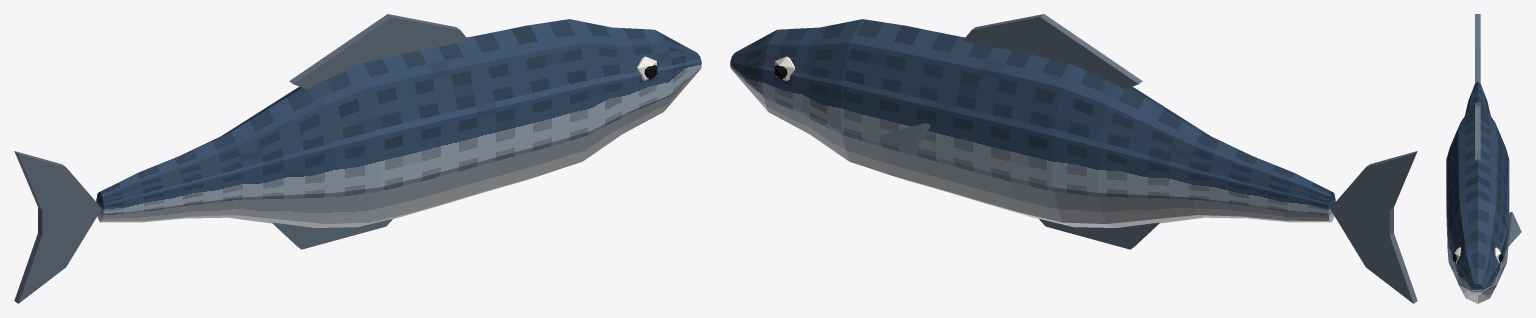
Rendered from tarpon.glb.
3 renders of one model, left to right at view 1: azimuth 30°, elevation 25°; view 2: azimuth 150°, elevation 25°; view 3: azimuth 270°, elevation 25°, orthographic. The views are drawn at different scales.
Visible parts, largest first — view 1: fish_tarpon; view 2: fish_tarpon; view 3: fish_tarpon.
Part boxes in pixels (bbox=[...]): fish_tarpon: bbox=[14, 14, 701, 303]; fish_tarpon: bbox=[730, 14, 1417, 303]; fish_tarpon: bbox=[1446, 14, 1521, 303].
Size of the model in its own units: 1.14 by 0.337 by 0.1619.
4 materials, 1 textured.
